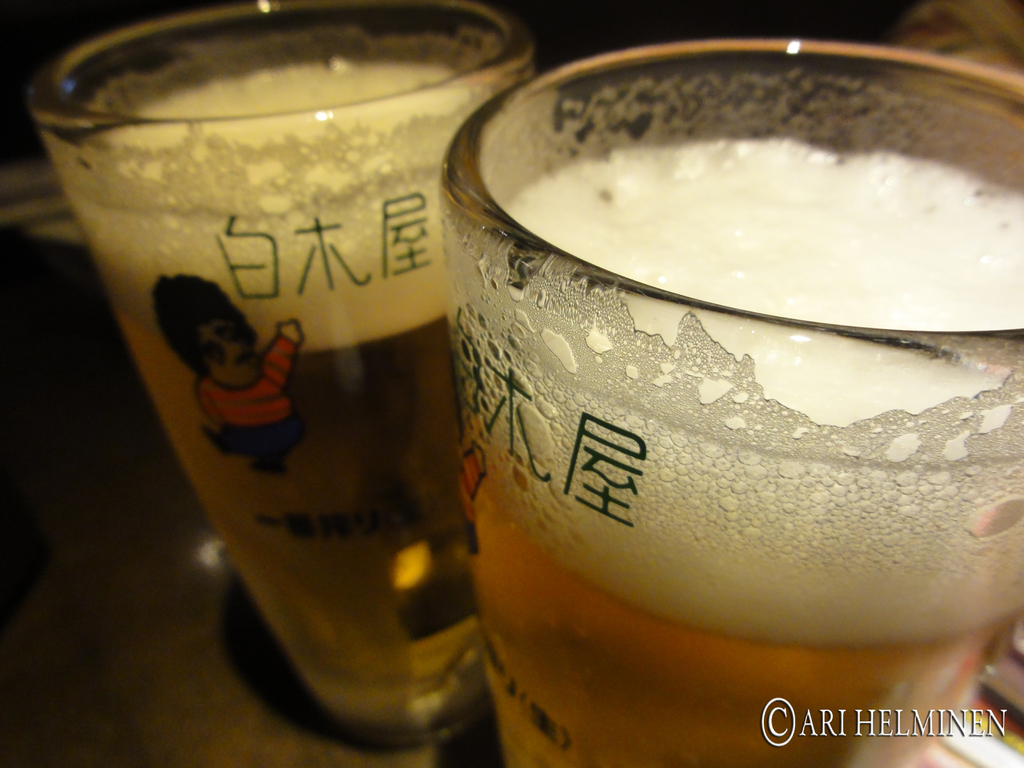Beer: (429, 25, 1023, 767), (15, 0, 554, 747)
